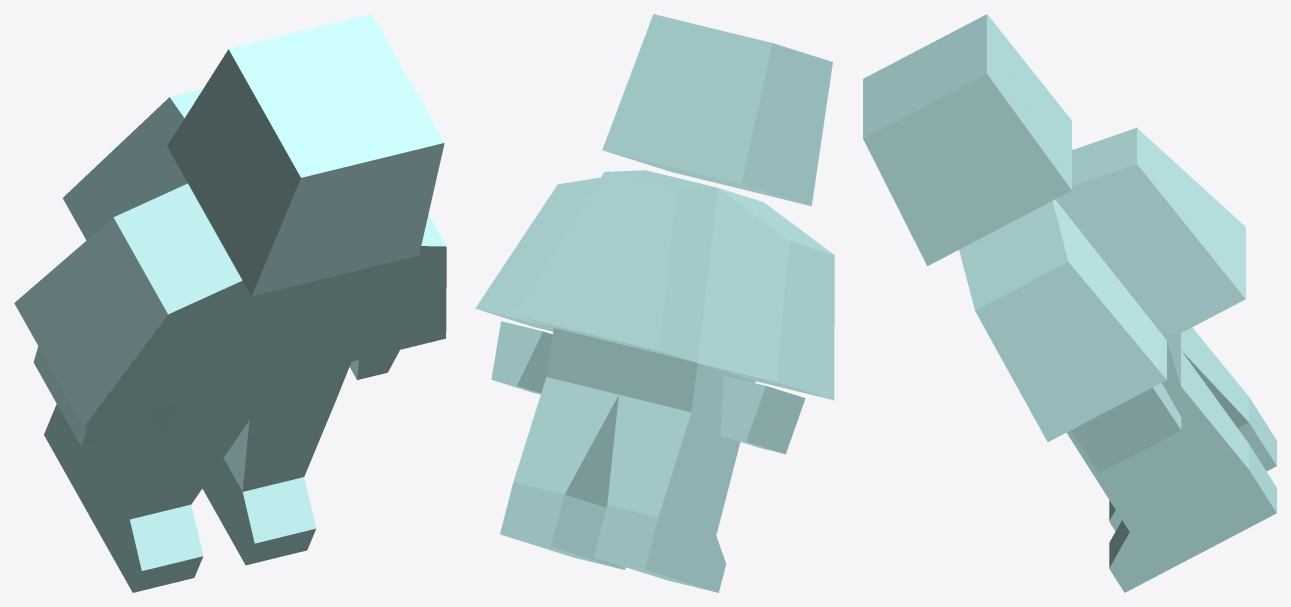
The model's file is JetpackmanBroken.fbx.
3 views of the same model, side by side, from view 1: azimuth 30°, elevation 25°; view 2: azimuth 150°, elevation 25°; view 3: azimuth 270°, elevation 25° (orthographic). The views are drawn at different scales.
Visible parts, largest first — view 1: Jetpackman_cell.004, Jetpackman_cell, Jetpackman_cell.001, Jetpackman_cell.002, Jetpackman_cell.003; view 2: Jetpackman_cell.001, Jetpackman_cell, Jetpackman_cell.004, Jetpackman_cell.002, Jetpackman_cell.003; view 3: Jetpackman_cell.001, Jetpackman_cell.004, Jetpackman_cell, Jetpackman_cell.003.
Boxes of the visible parts, bbox=[...] form: Jetpackman_cell.004: bbox=[167, 14, 444, 296]; Jetpackman_cell: bbox=[28, 296, 446, 592]; Jetpackman_cell.001: bbox=[14, 89, 446, 391]; Jetpackman_cell.002: bbox=[33, 346, 127, 447]; Jetpackman_cell.003: bbox=[349, 350, 399, 379]; Jetpackman_cell.001: bbox=[483, 170, 834, 385]; Jetpackman_cell: bbox=[475, 297, 834, 592]; Jetpackman_cell.004: bbox=[602, 14, 832, 205]; Jetpackman_cell.002: bbox=[720, 375, 805, 454]; Jetpackman_cell.003: bbox=[491, 321, 552, 394]; Jetpackman_cell.001: bbox=[959, 127, 1245, 381]; Jetpackman_cell.004: bbox=[863, 14, 1071, 265]; Jetpackman_cell: bbox=[1014, 327, 1276, 592]; Jetpackman_cell.003: bbox=[1071, 383, 1181, 472].
Size of the model in its own units: 196 by 309 by 226.
